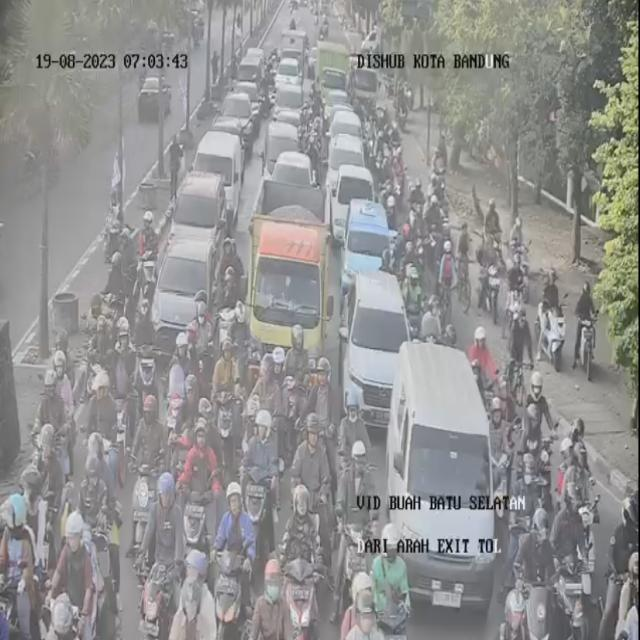cars: (390, 336, 491, 614), (345, 258, 416, 425), (142, 234, 218, 368), (166, 167, 224, 267), (342, 194, 394, 295), (193, 134, 244, 227), (323, 126, 366, 190), (333, 164, 374, 227), (221, 87, 261, 143), (271, 148, 311, 194), (263, 118, 299, 158), (237, 54, 266, 92), (276, 81, 304, 120), (216, 111, 243, 146), (279, 58, 305, 82)
motorcycle: (140, 471, 189, 637), (199, 479, 259, 614), (548, 481, 597, 640), (334, 447, 383, 594), (0, 466, 42, 626), (241, 396, 280, 538), (48, 502, 97, 612), (290, 406, 330, 538), (110, 322, 146, 465), (556, 424, 604, 528), (272, 482, 310, 610), (34, 353, 71, 484), (370, 522, 410, 637), (513, 494, 546, 632), (610, 483, 640, 629), (190, 393, 220, 534), (134, 395, 160, 543), (217, 251, 248, 375), (167, 373, 201, 465), (254, 335, 289, 423), (36, 426, 62, 537), (213, 349, 239, 456), (509, 442, 537, 538), (336, 386, 366, 475), (101, 238, 130, 328), (94, 360, 118, 468), (506, 208, 534, 300), (76, 437, 107, 519), (338, 558, 371, 635), (284, 326, 313, 406), (308, 346, 336, 428), (541, 266, 563, 370), (184, 289, 215, 361), (220, 270, 244, 361), (500, 358, 527, 438), (476, 235, 502, 314), (576, 274, 596, 375), (413, 281, 447, 339), (480, 193, 502, 274), (421, 289, 453, 344), (470, 316, 497, 378), (91, 298, 111, 381), (423, 193, 446, 259), (436, 312, 466, 359), (259, 554, 281, 617), (394, 255, 422, 304), (525, 371, 541, 454), (383, 115, 407, 167), (486, 395, 499, 485), (431, 136, 444, 208), (139, 201, 153, 261), (408, 177, 422, 232), (372, 133, 389, 178), (312, 116, 326, 163), (391, 81, 408, 119)
truck: (251, 177, 327, 396), (316, 38, 344, 107), (348, 51, 378, 107)
